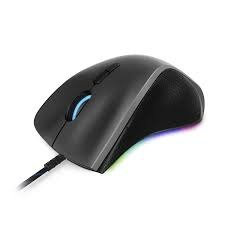mouse: (30, 52, 211, 172)
